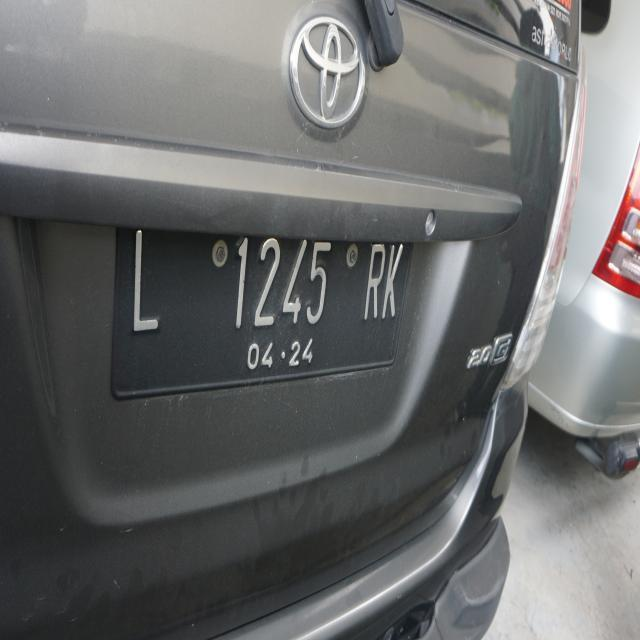1: (226, 230, 253, 340)
2: (252, 235, 282, 342)
4: (277, 236, 309, 326)
5: (302, 232, 332, 330)
K: (380, 238, 410, 332)
L: (123, 220, 165, 342)
R: (362, 236, 384, 326)
